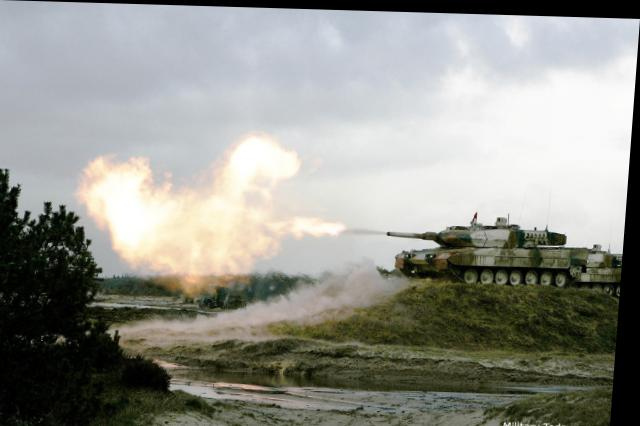tank: (371, 197, 602, 288)
